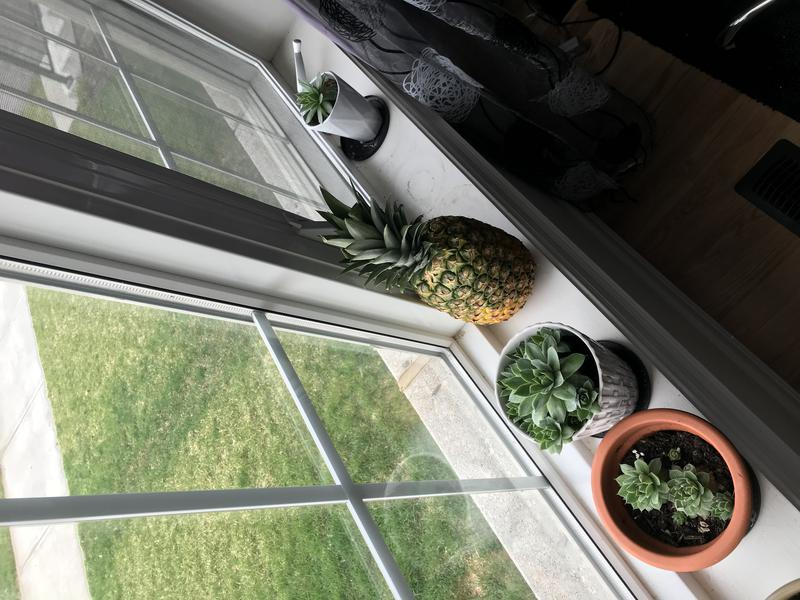pineapple: (300, 178, 551, 334)
